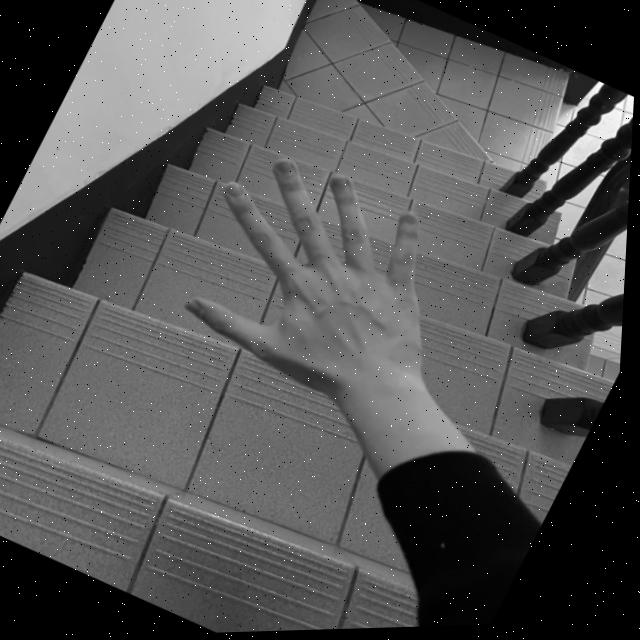hand: (148, 125, 495, 437)
